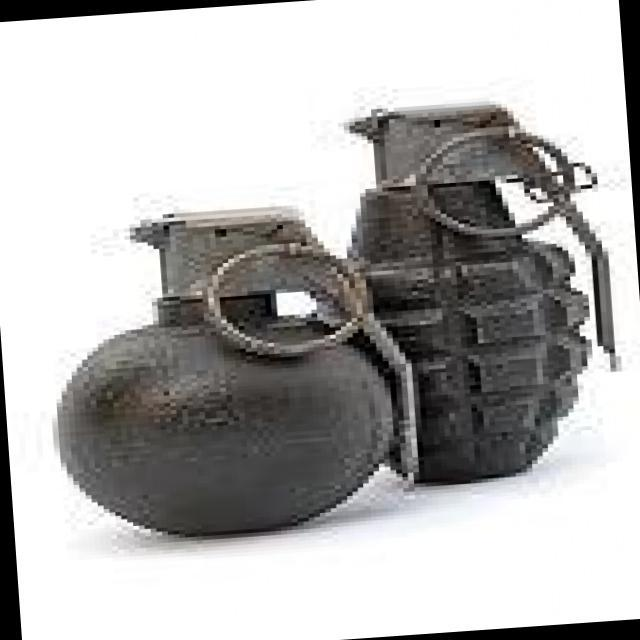grenade: (17, 84, 640, 554)
